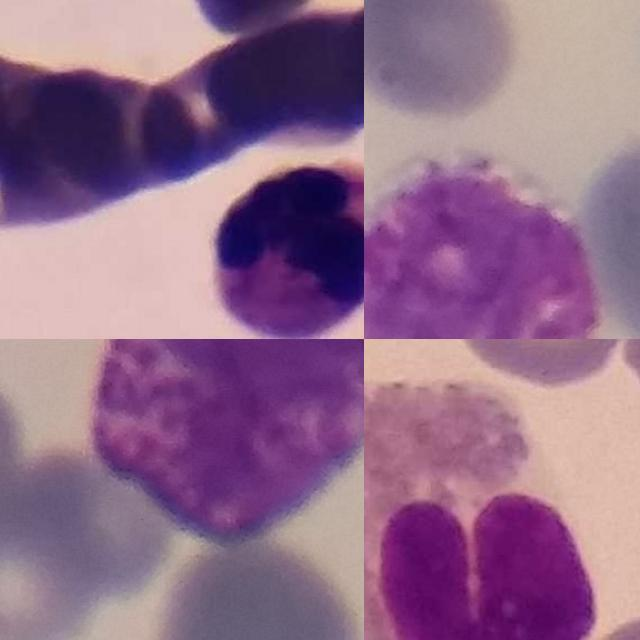Basophil: (93, 339, 364, 553), (364, 151, 605, 339)
Eosinophil: (364, 381, 600, 640)
Neutrophil: (209, 158, 364, 339)
